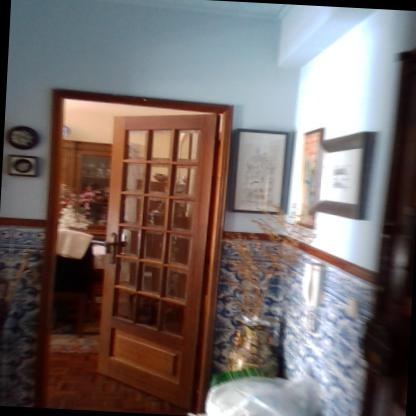open: (26, 85, 246, 398)
